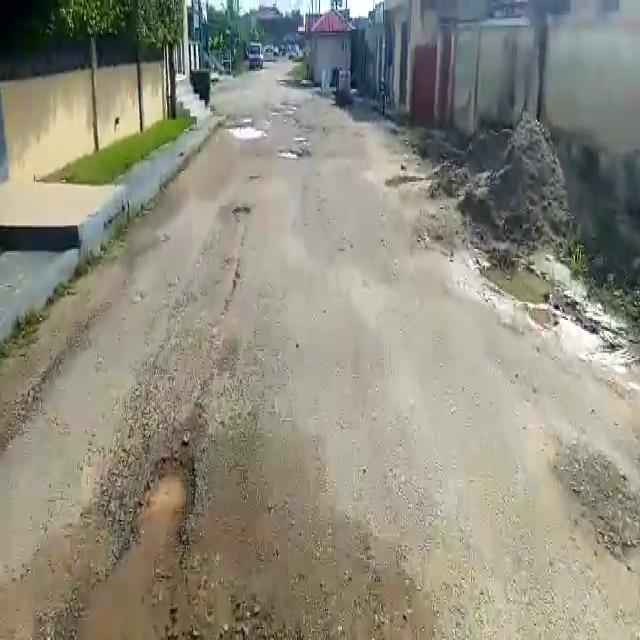Pothole: (126, 454, 199, 546), (220, 122, 268, 142), (277, 148, 304, 164)
